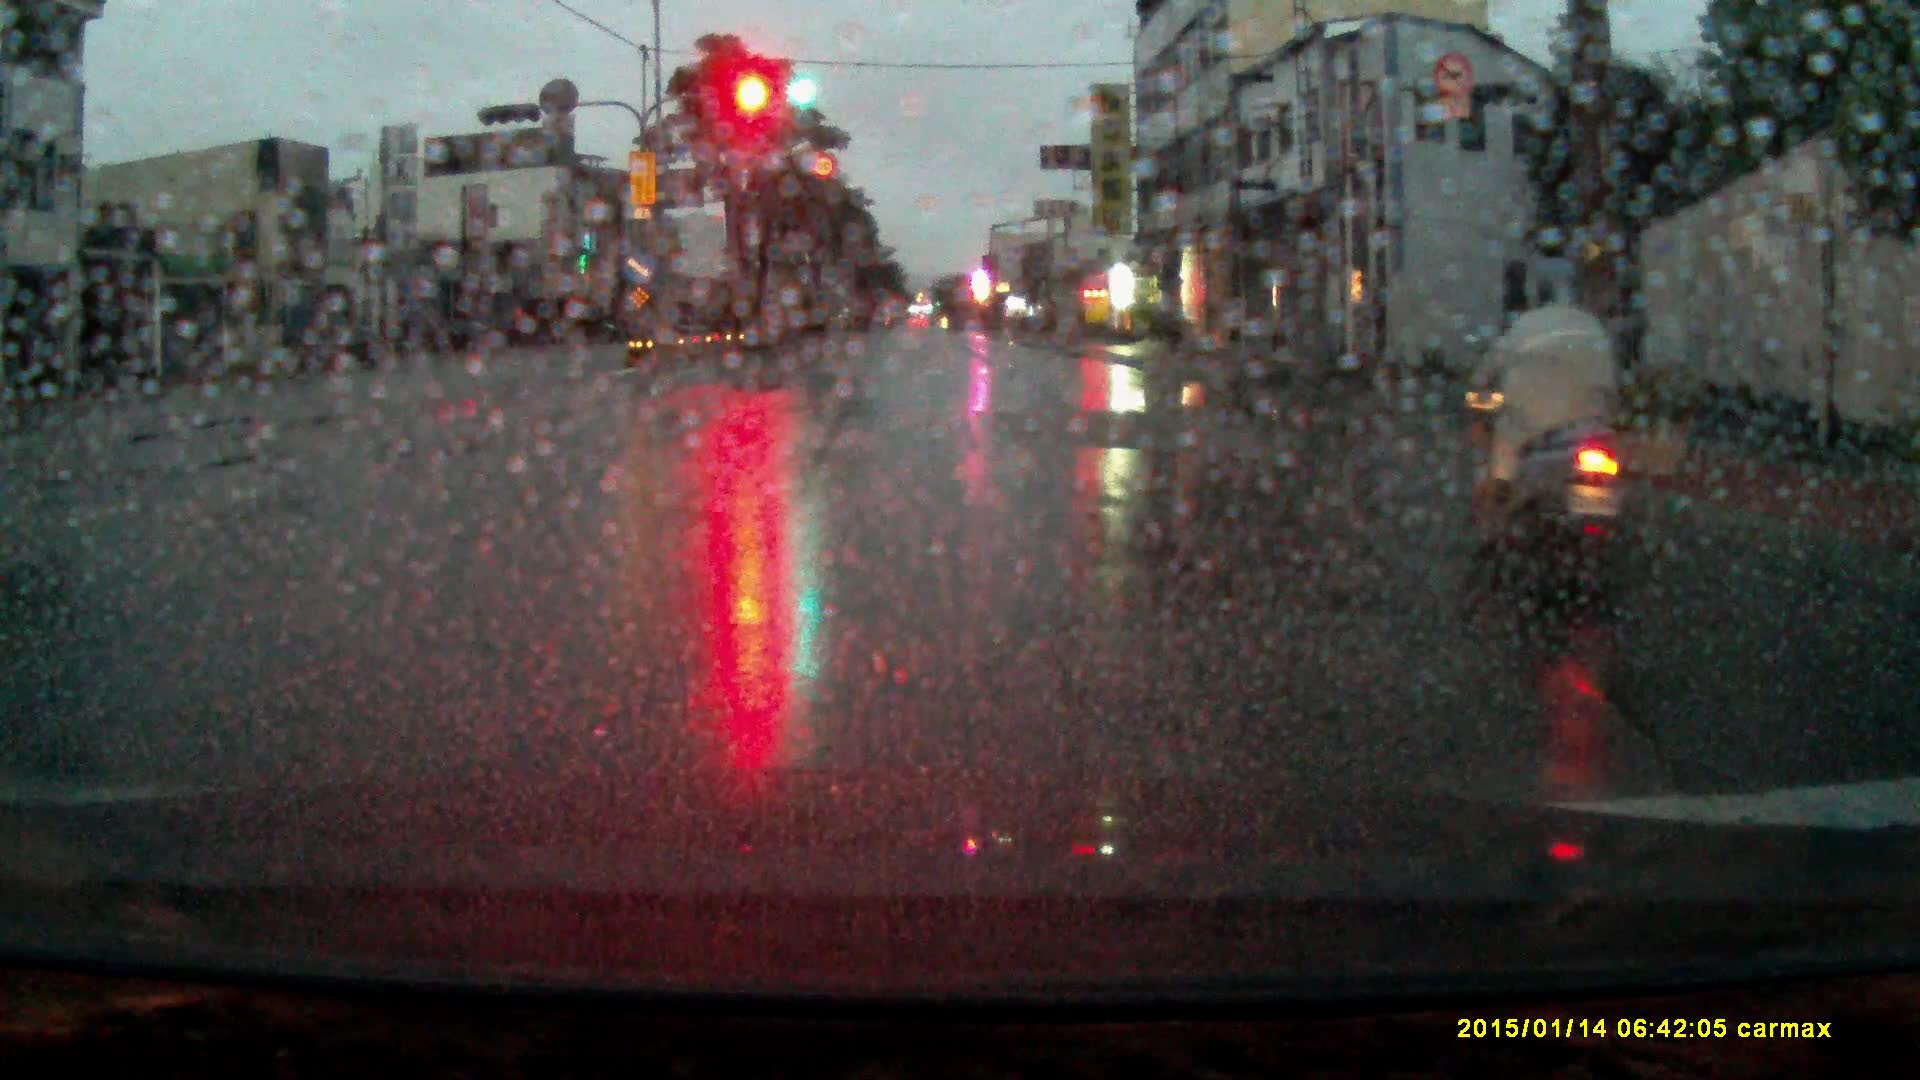rider: (1472, 251, 1662, 620)
